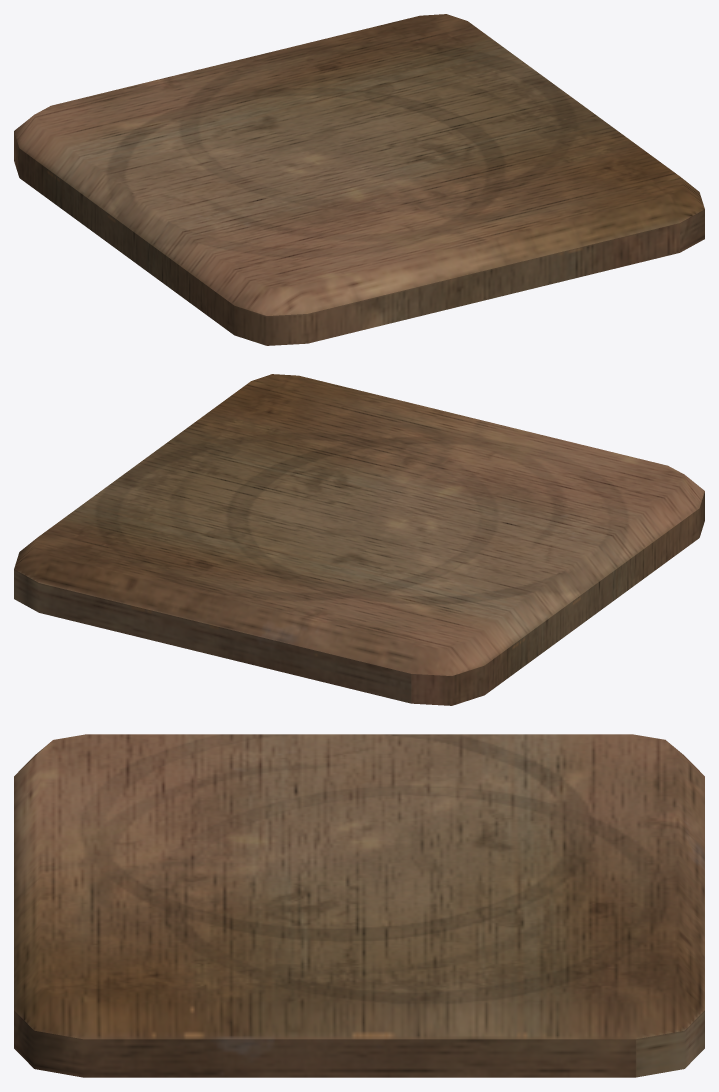
Rendered from SM_Coaster_01.fbx.
The picture shows the model from 3 angles, top to bottom: view 1: azimuth 30°, elevation 25°; view 2: azimuth 150°, elevation 25°; view 3: azimuth 270°, elevation 25°; orthographic projection. The views are drawn at different scales.
Visible parts, largest first — view 1: SM_Coaster_01_LOD0; view 2: SM_Coaster_01_LOD0; view 3: SM_Coaster_01_LOD0.
Part boxes in pixels (x1,y1,x2,y2): SM_Coaster_01_LOD0: (14,14,704,345); SM_Coaster_01_LOD0: (14,374,704,705); SM_Coaster_01_LOD0: (14,734,704,1077).
Size of the model in its own units: 11.21 by 11.21 by 1.12.
1 material, 1 textured.
